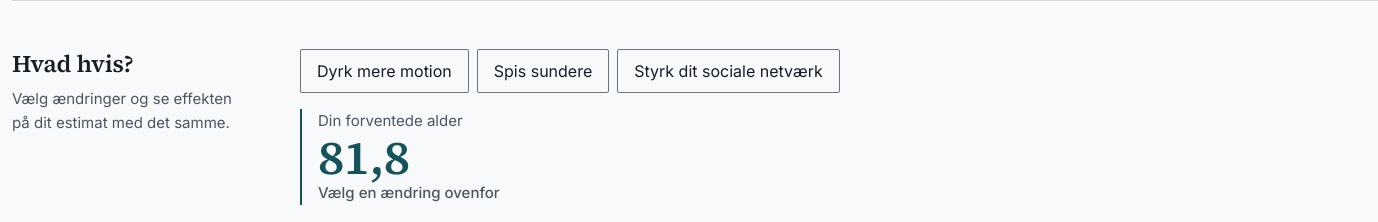
Test case: HvadHvis (#93) › shows the gain with a decimal comma once a change is chosen
What coordinates should you click on to do the following:
click the button "Dyrk mere motion"
I would click on:
 (384, 71)
Its box is [300, 49, 469, 93].
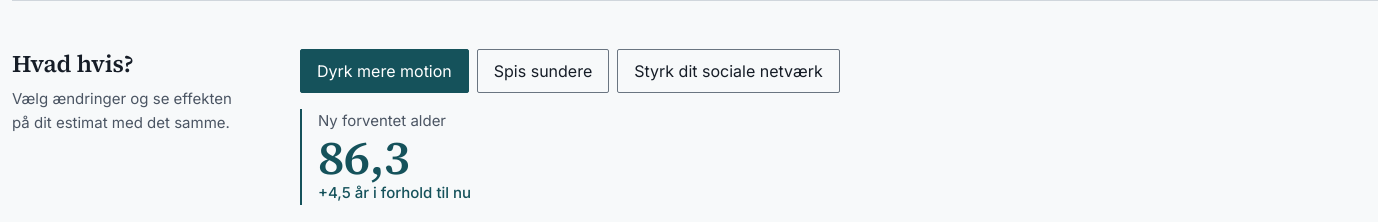
Result: the text "+4,5 år i forhold til nu" is shown at [318, 183, 471, 202]
